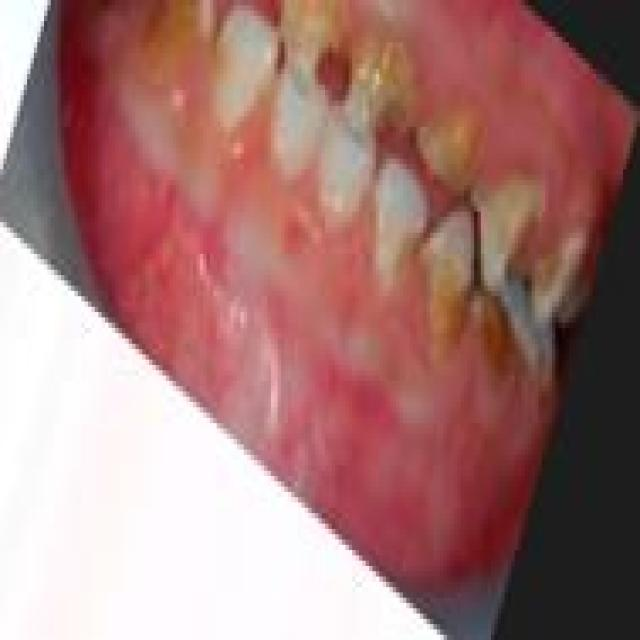caries: (340, 27, 414, 147), (418, 210, 471, 366), (274, 0, 346, 95), (420, 93, 484, 189), (484, 176, 533, 278), (534, 225, 580, 324), (477, 282, 509, 360)
